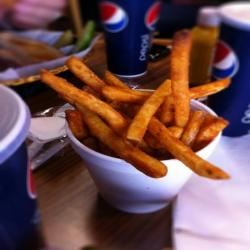fries: (46, 62, 229, 182)
